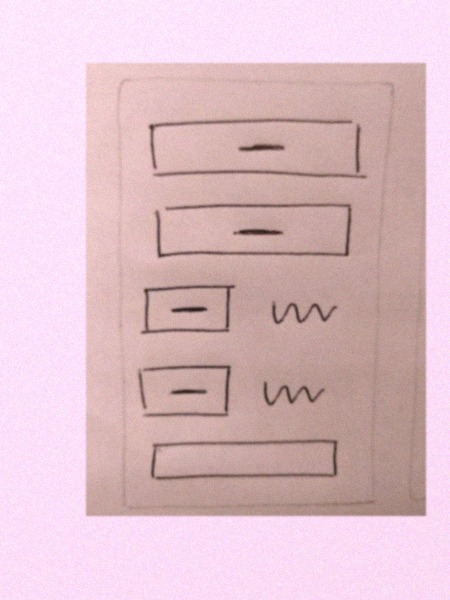button: (141, 114, 370, 188), (149, 200, 356, 266), (134, 361, 237, 424), (137, 281, 240, 340)
text: (255, 373, 327, 415), (263, 294, 338, 332)
text_input: (143, 437, 345, 487)
